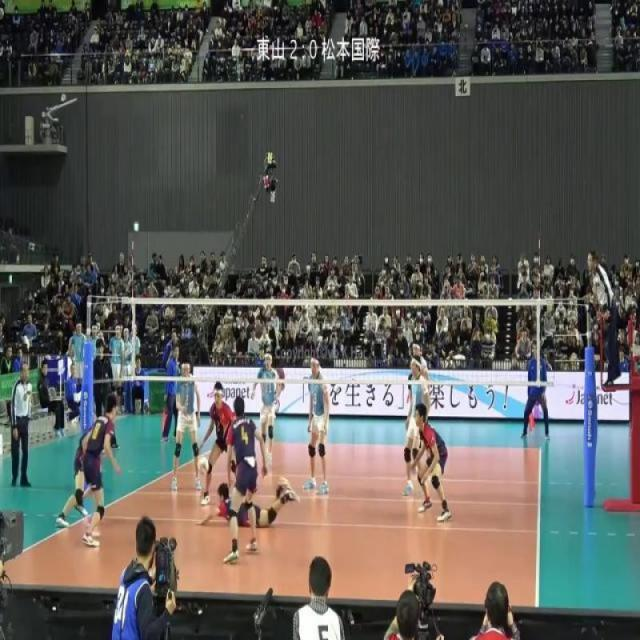volleyball: (197, 456, 210, 476)
